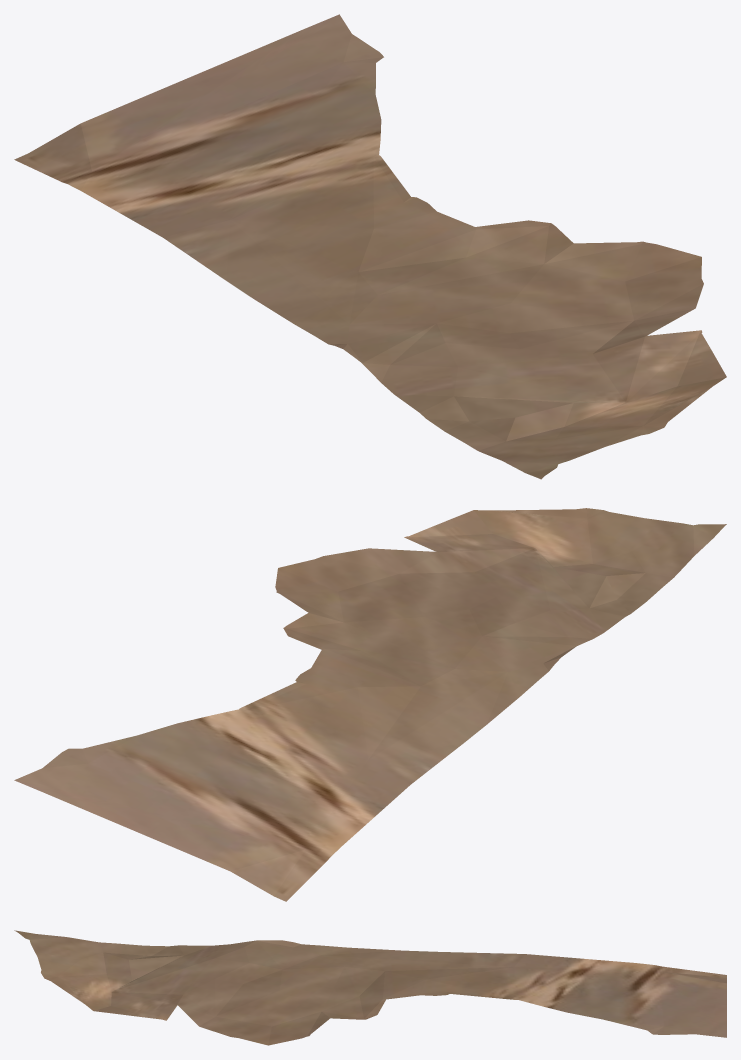
3 renders of one model, top to bottom at view 1: azimuth 30°, elevation 25°; view 2: azimuth 150°, elevation 25°; view 3: azimuth 270°, elevation 25°, orthographic. The views are drawn at different scales.
Bounding box in the file's own units: 0.455 × 0.0822 × 1.19.
Materials: 1 (1 with a texture image).
